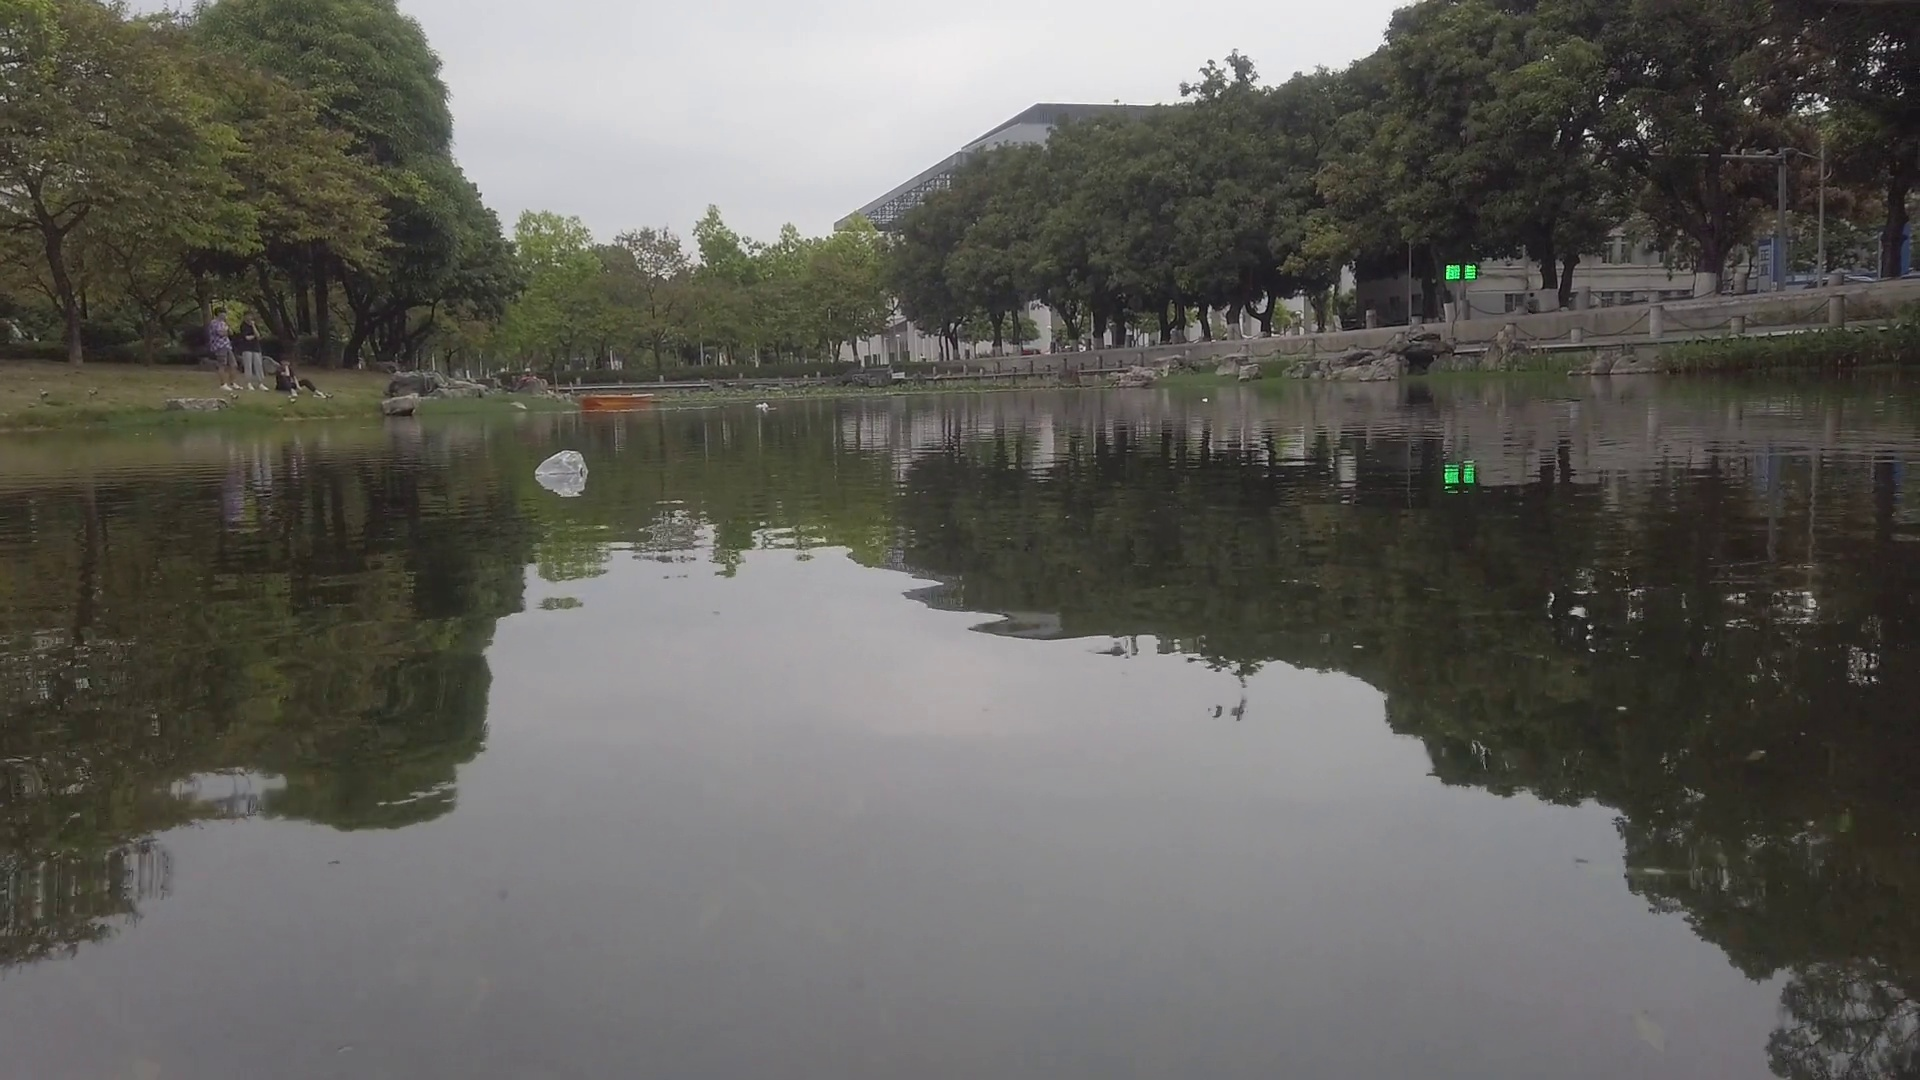paper: (1199, 396, 1215, 405)
plastic: (534, 450, 589, 476), (750, 400, 767, 410)
